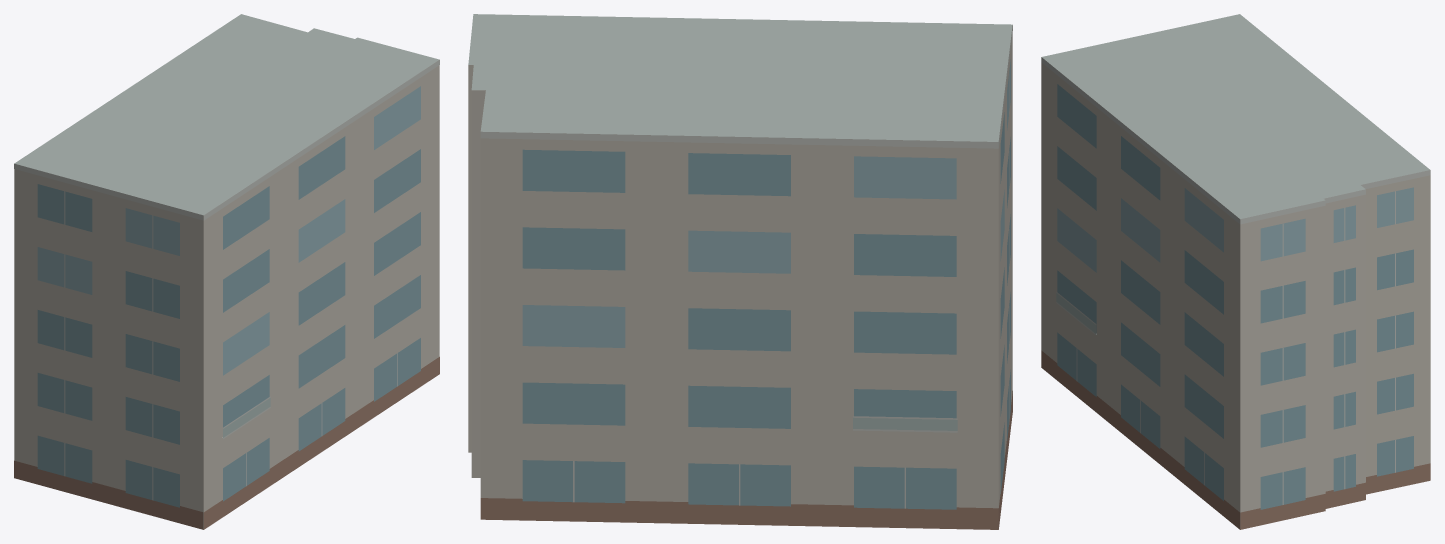
The model's file is survey-upis-32970657.glb.
3 renders of one model, left to right at view 1: azimuth 30°, elevation 25°; view 2: azimuth 150°, elevation 25°; view 3: azimuth 270°, elevation 25°, orthographic. The views are drawn at different scales.
Parts seen in each view (by area): view 1: survey-upis-32970657.tmp; view 2: survey-upis-32970657.tmp; view 3: survey-upis-32970657.tmp.
Boxes of the visible parts, box(x1,y1,x2,y2) form: survey-upis-32970657.tmp: box(14, 14, 439, 529); survey-upis-32970657.tmp: box(468, 14, 1012, 529); survey-upis-32970657.tmp: box(1041, 14, 1430, 529).
Size of the model in its own units: 20.41 by 14.4 by 16.36.
